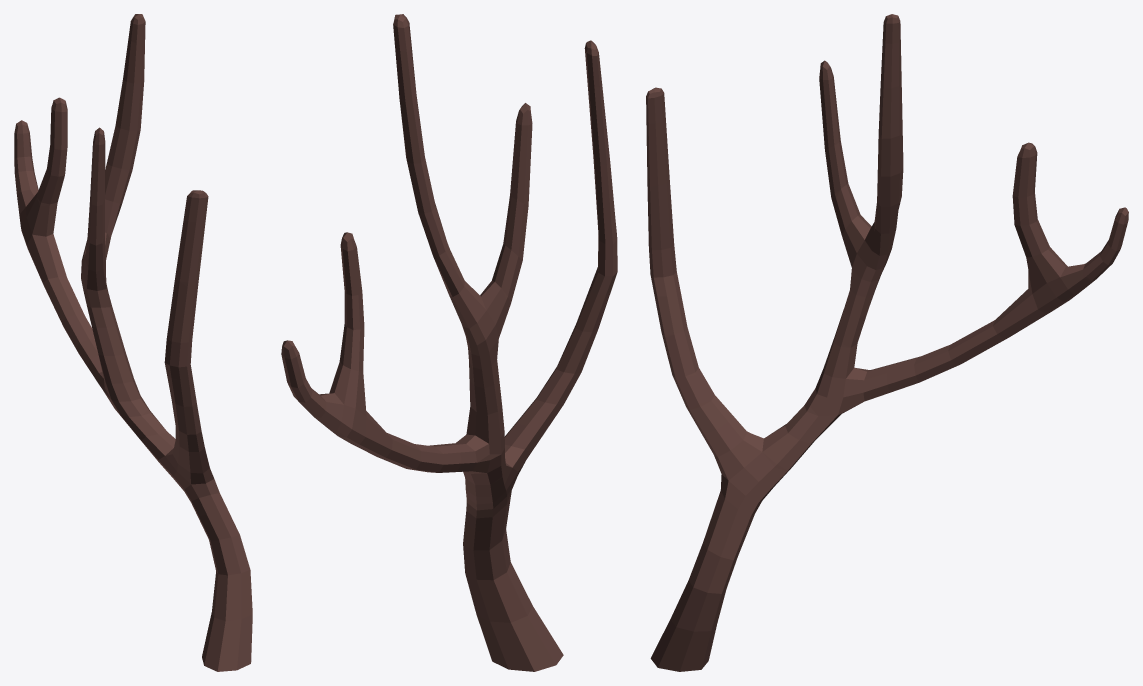
The picture shows the model from 3 angles, left to right: view 1: azimuth 30°, elevation 25°; view 2: azimuth 150°, elevation 25°; view 3: azimuth 270°, elevation 25°; orthographic projection. The views are drawn at different scales.
Parts seen in each view (by area): view 1: Willow_Dead_1; view 2: Willow_Dead_1; view 3: Willow_Dead_1.
Part boxes in pixels (x1,y1,x2,y2): Willow_Dead_1: (14, 14, 252, 671); Willow_Dead_1: (281, 14, 617, 671); Willow_Dead_1: (646, 14, 1128, 671).
Bounding box in the file's own units: 0.4992 × 2.69 × 1.81.
